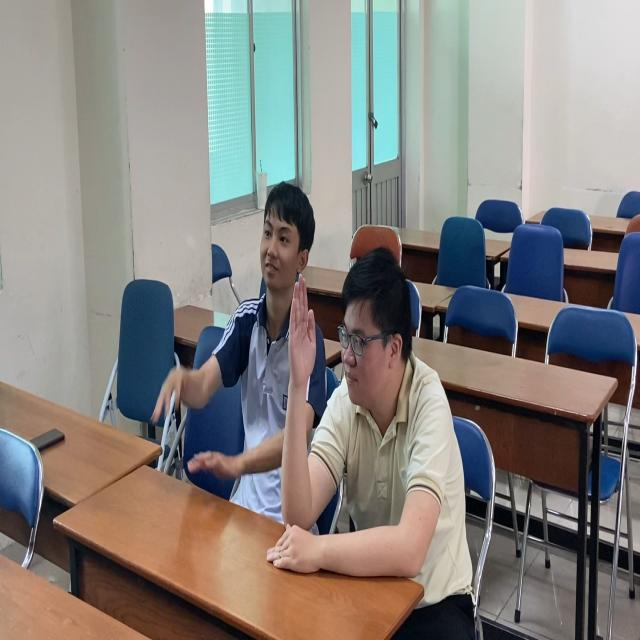raise_hand: (277, 244, 479, 594)
